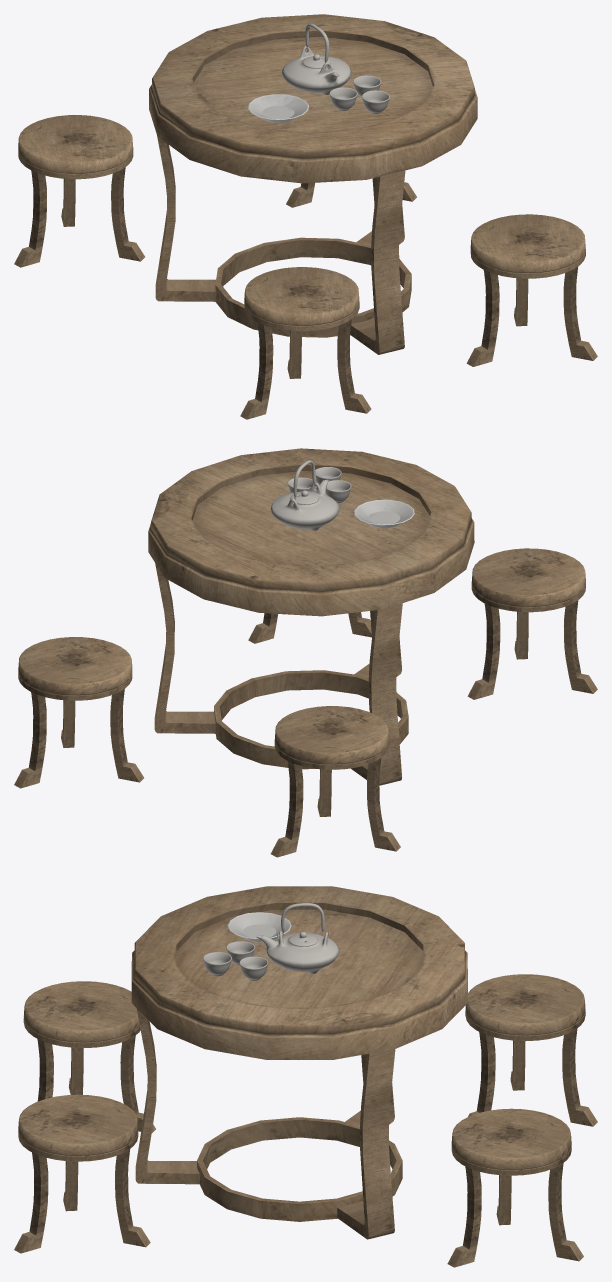
The model's file is tea_table.glb.
The picture shows the model from 3 angles, top to bottom: view 1: azimuth 30°, elevation 25°; view 2: azimuth 150°, elevation 25°; view 3: azimuth 270°, elevation 25°; orthographic projection. The views are drawn at different scales.
Visible parts, largest first — view 1: Cube.002_lambert2_0.001; view 2: Cube.002_lambert2_0.001; view 3: Cube.002_lambert2_0.001.
Boxes of the visible parts, x1,y1,x2,y2 form: Cube.002_lambert2_0.001: (14,14,597,419); Cube.002_lambert2_0.001: (14,448,597,857); Cube.002_lambert2_0.001: (14,886,597,1267).
Size of the model in its own units: 2.03 by 1.37 by 2.61.
1 material, 1 textured.
